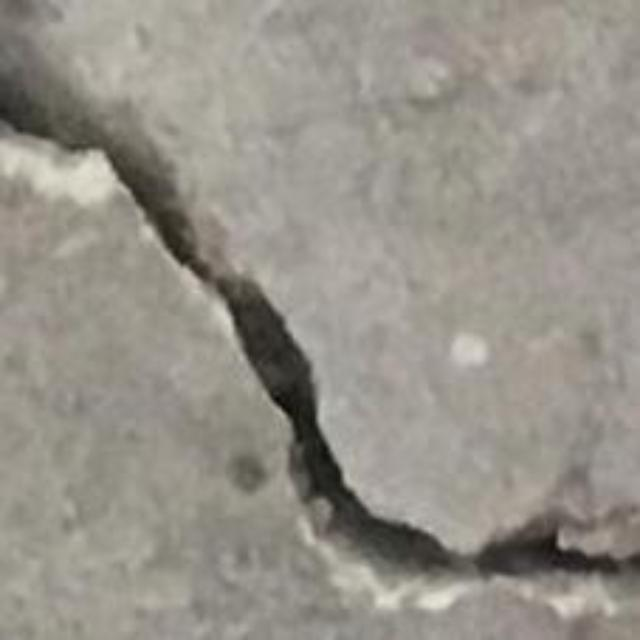crack: (0, 17, 639, 594)
